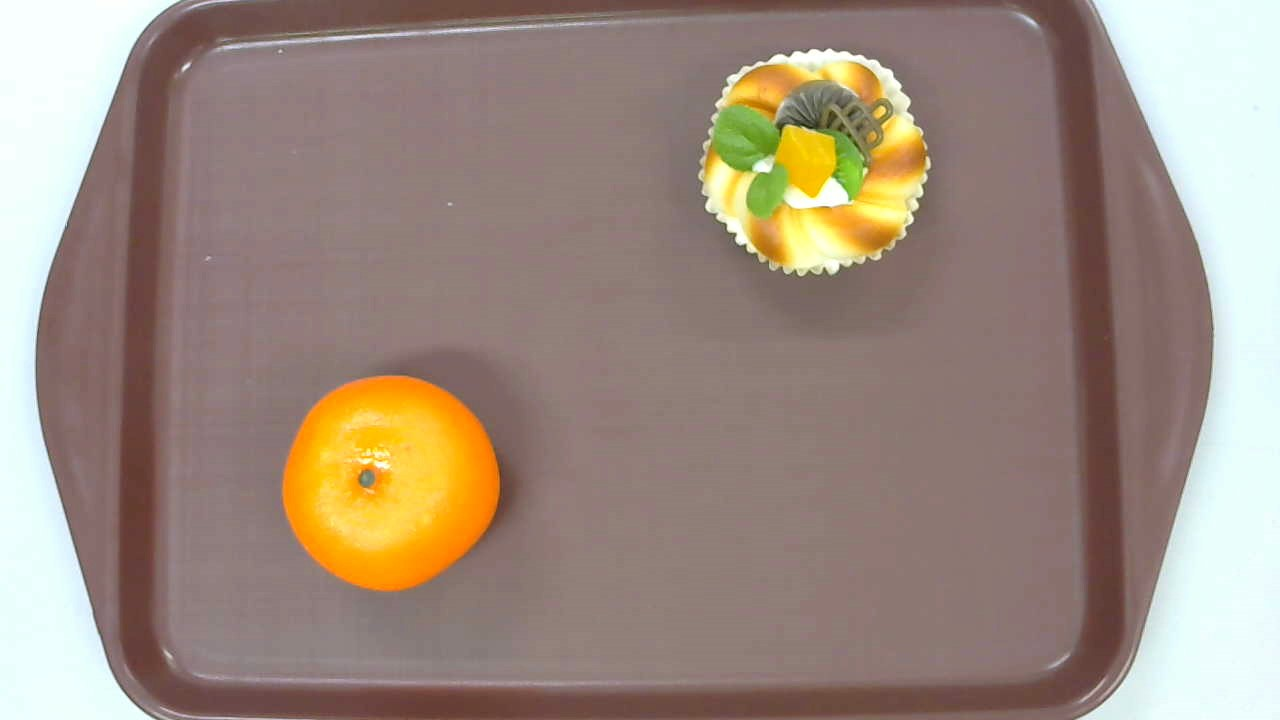fruit tart: (698, 48, 931, 278)
orange: (281, 374, 501, 593)
